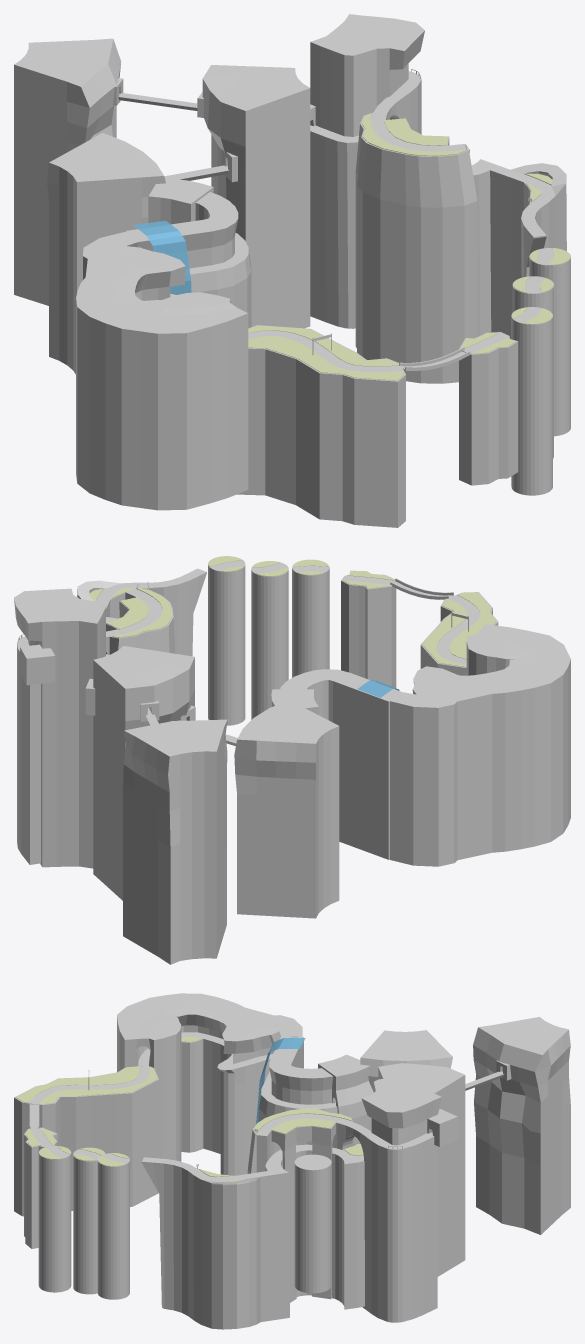
File: LD 2 - Canyon track v06.fbx
The picture shows the model from 3 angles, top to bottom: view 1: azimuth 30°, elevation 25°; view 2: azimuth 150°, elevation 25°; view 3: azimuth 270°, elevation 25°; orthographic projection. The views are drawn at different scales.
Parts seen in each view (by area): view 1: Cube.010, Cube.017, Cube.007, Cube, Cube.019, Cube.004, Cube.003, Cube.021, Cube.006, Cube.008, Cylinder, Cylinder.002 (+8 smaller); view 2: Cube.010, Cube.004, Cube.003, Cube.021, Cube, Cube.006, Cube.017, Cylinder.002, Cube.008, Cylinder.001, Cylinder, Cube.019 (+6 smaller); view 3: Cube.019, Cube.010, Cube.004, Cube.017, Cube.007, Cube.006, Cube, Cylinder.009, Cylinder, Cylinder.002, Cube.021, Cylinder.001 (+9 smaller).
Boxes of the visible parts, left/top/right/bottom form: Cube.010: left=76, top=231, right=248, bottom=510; Cube.017: left=355, top=71, right=477, bottom=383; Cube.007: left=237, top=325, right=405, bottom=527; Cube: left=202, top=65, right=310, bottom=328; Cube.019: left=310, top=125, right=566, bottom=338; Cube.004: left=14, top=38, right=121, bottom=305; Cube.003: left=47, top=133, right=165, bottom=374; Cube.021: left=310, top=14, right=424, bottom=328; Cube.006: left=125, top=178, right=251, bottom=328; Cube.008: left=459, top=332, right=518, bottom=485; Cylinder: left=511, top=307, right=552, bottom=495; Cylinder.002: left=529, top=248, right=570, bottom=436; Cube.010: left=390, top=624, right=570, bottom=866; Cube.004: left=123, top=719, right=227, bottom=964; Cube.003: left=234, top=700, right=339, bottom=918; Cube.021: left=14, top=588, right=105, bottom=868; Cube: left=93, top=646, right=194, bottom=900; Cube.006: left=271, top=669, right=402, bottom=859; Cube.017: left=17, top=588, right=175, bottom=864; Cylinder.002: left=208, top=560, right=245, bottom=725; Cube.008: left=341, top=570, right=396, bottom=687; Cylinder.001: left=251, top=562, right=288, bottom=719; Cylinder: left=292, top=562, right=329, bottom=677; Cube.019: left=77, top=568, right=206, bottom=656; Cube.019: left=141, top=1144, right=364, bottom=1329; Cube.010: left=117, top=993, right=302, bottom=1175; Cube.004: left=473, top=1017, right=570, bottom=1234; Cube.017: left=247, top=1108, right=437, bottom=1322; Cube.007: left=14, top=1066, right=158, bottom=1216; Cube.006: left=259, top=1036, right=373, bottom=1143; Cube: left=378, top=1063, right=465, bottom=1276; Cylinder.009: left=294, top=1154, right=331, bottom=1293; Cylinder: left=38, top=1145, right=71, bottom=1292; Cylinder.002: left=97, top=1153, right=129, bottom=1299; Cube.021: left=361, top=1075, right=441, bottom=1145; Cylinder.001: left=73, top=1149, right=105, bottom=1294.
Size of what is drawn, in the model's own units: 9331 by 4866 by 11439.
